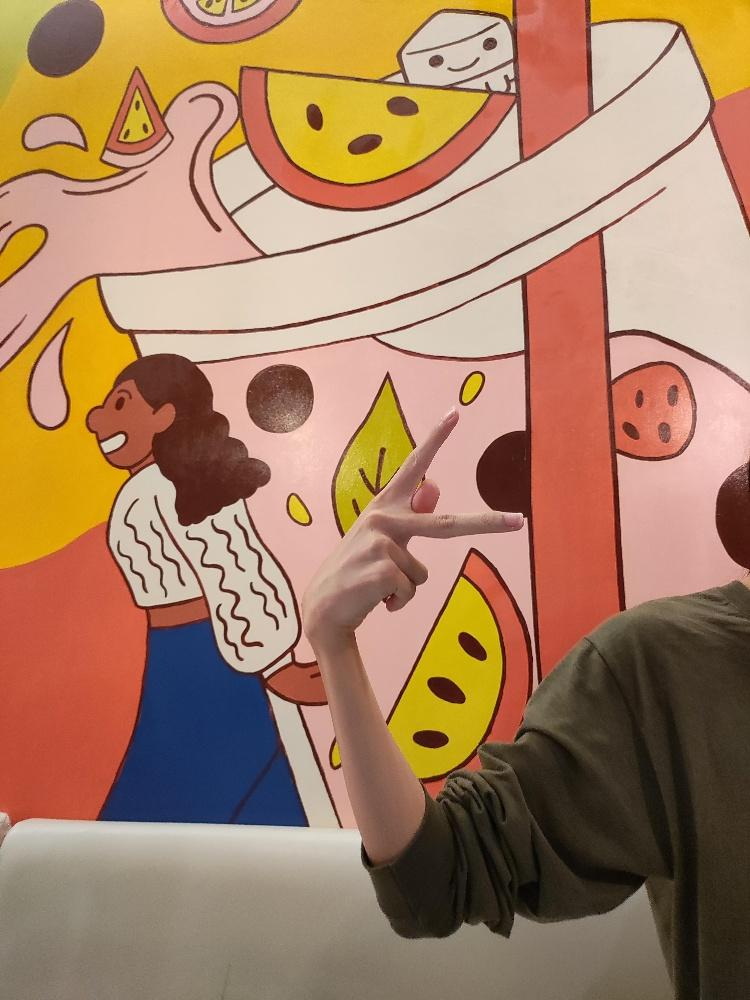k: (296, 402, 526, 637)
